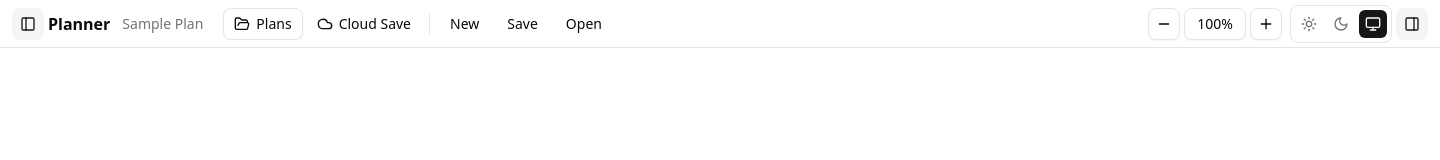
Scenario: TopBar › renames the project: click → type → Enter
Click the button "Sample Plan".
click(163, 24)  # box [114,10,211,38]
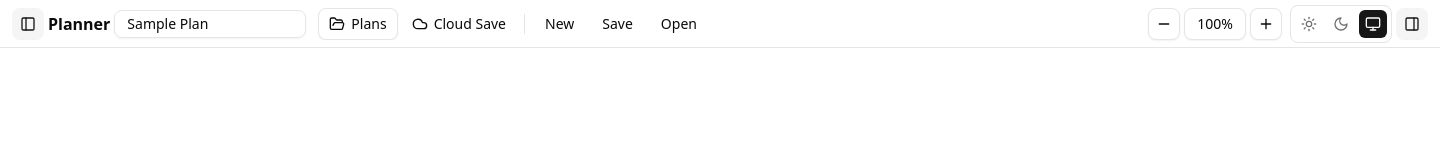
Replace the text in the field named "Project name" with "My House" at (210,24), box [114,10,306,38]
Then press Enter
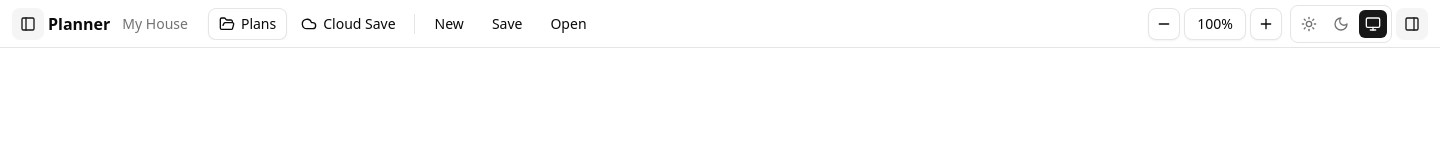
Result: the button "My House" is shown at [114,10,196,38]
